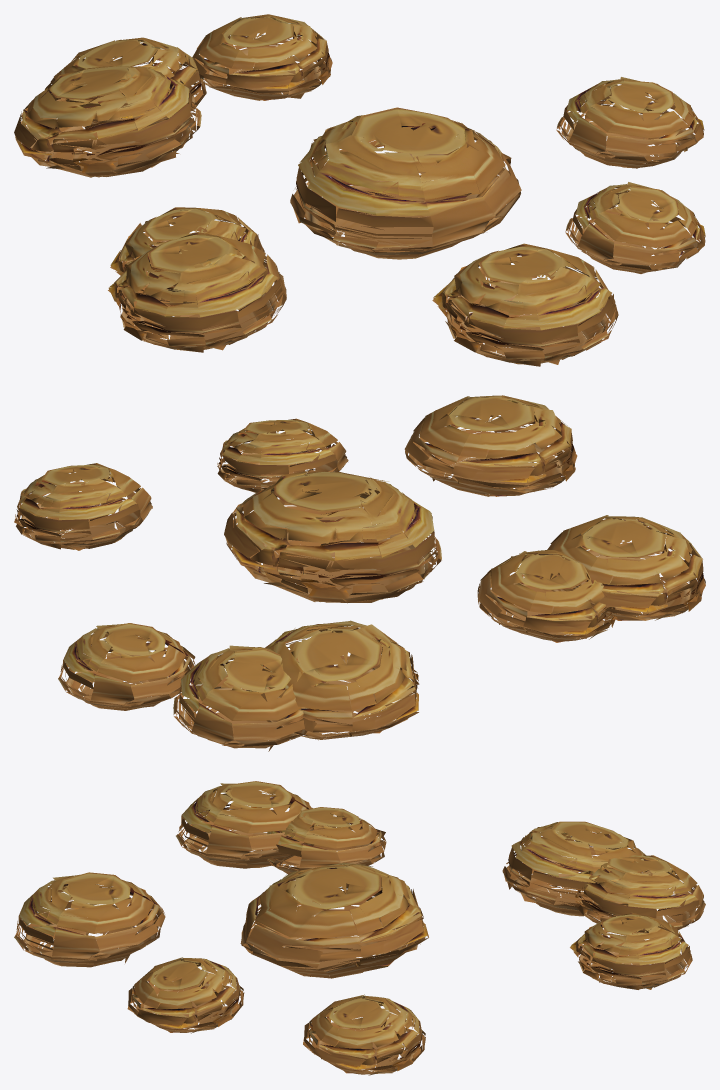
File: desert_boulder_scatter.glb
3 views of the same model, one above another, from view 1: azimuth 30°, elevation 25°; view 2: azimuth 150°, elevation 25°; view 3: azimuth 270°, elevation 25° (orthographic). The views are drawn at different scales.
Visible parts, largest first — view 1: desert_boulder_scatter; view 2: desert_boulder_scatter; view 3: desert_boulder_scatter.
Part boxes in pixels (x1=…): desert_boulder_scatter: x1=14, y1=14, x2=705, y2=366; desert_boulder_scatter: x1=14, y1=395, x2=705, y2=751; desert_boulder_scatter: x1=14, y1=781, x2=705, y2=1075.
Bounding box in the file's own units: 4.69 × 0.7243 × 5.23.
Materials: 1 (1 with a texture image).
